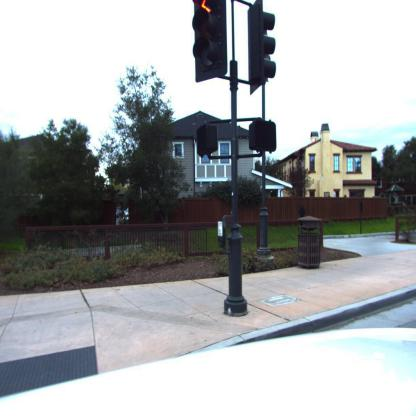traffic light: (192, 1, 228, 81), (248, 8, 277, 86), (249, 119, 276, 152), (196, 123, 218, 162)
